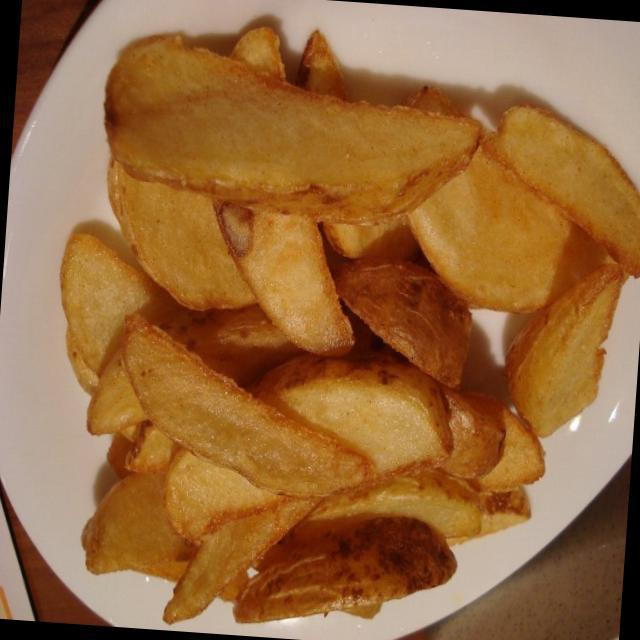French Fries: (51, 1, 637, 640)
